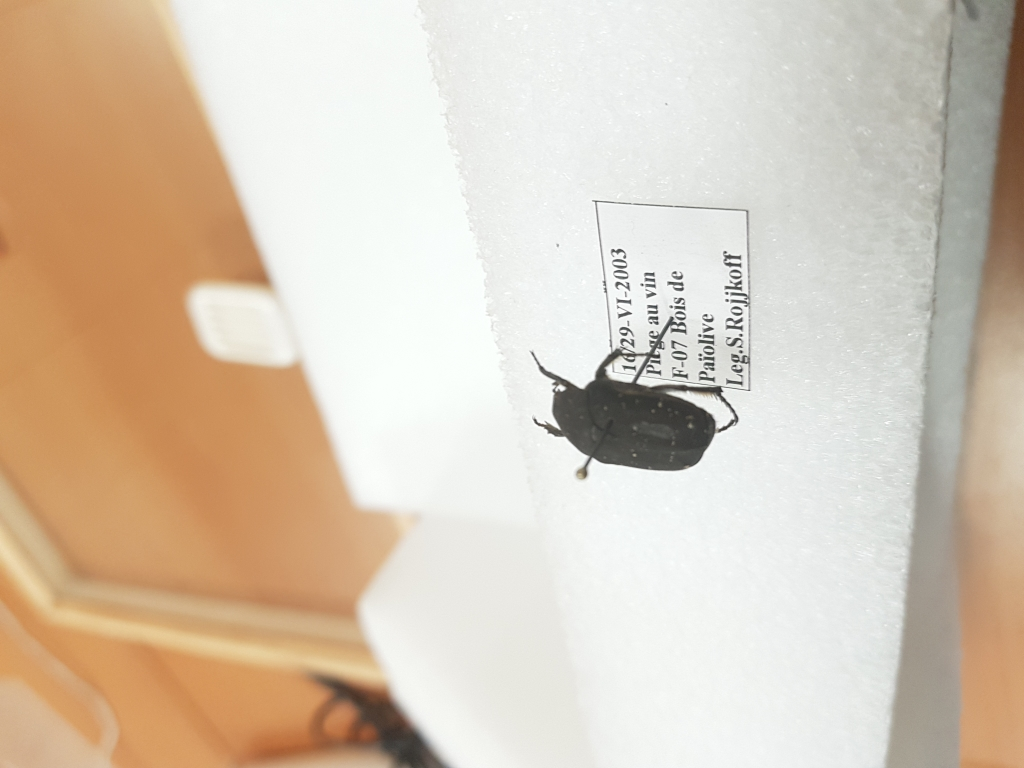Protaetia_morio_morio: (524, 344, 743, 472)
